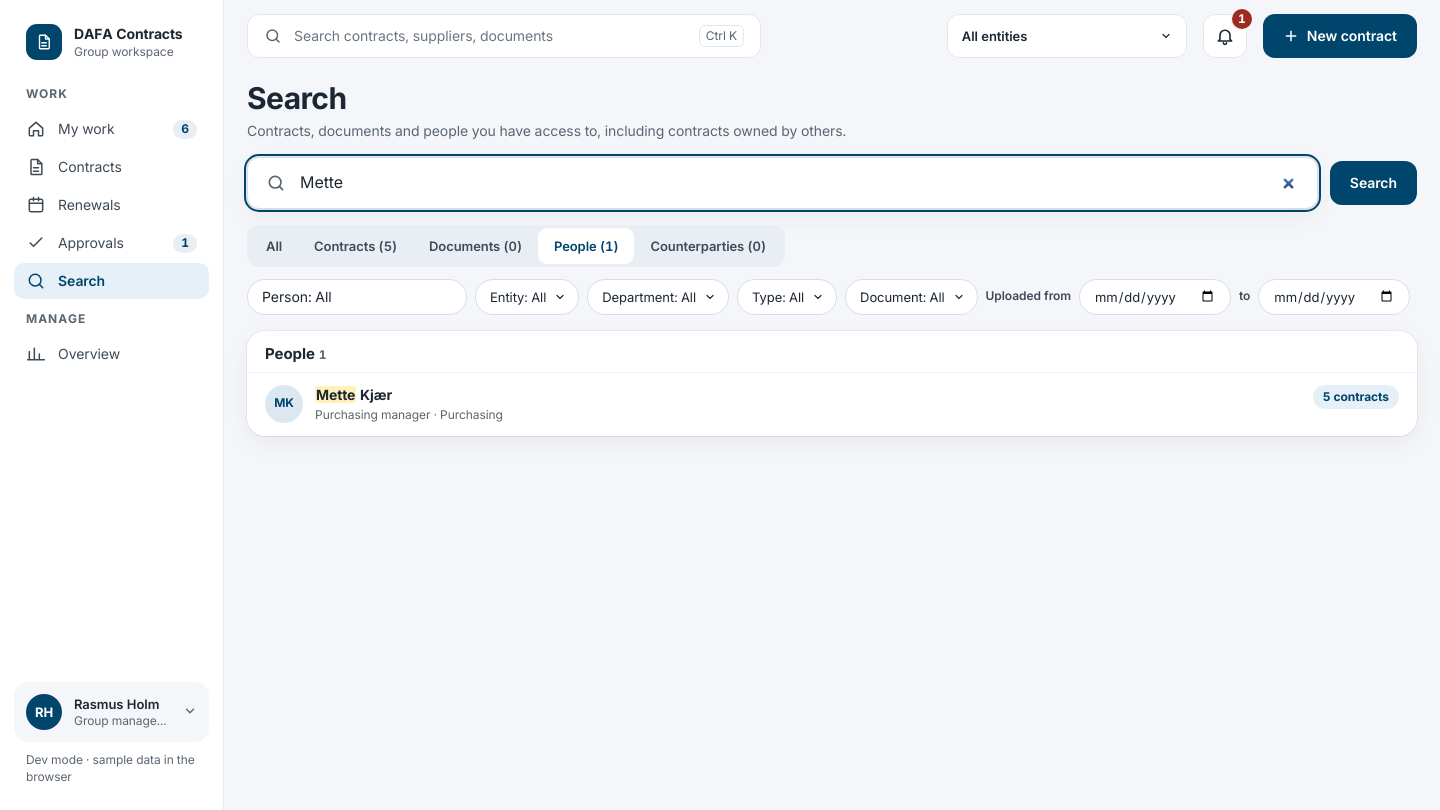
Test: Search page (release 3) › opens a person page with every role, reachable from search
Click the link "Mette Kjær" at (354,394), box x1=315 y1=386 x2=392 y2=403
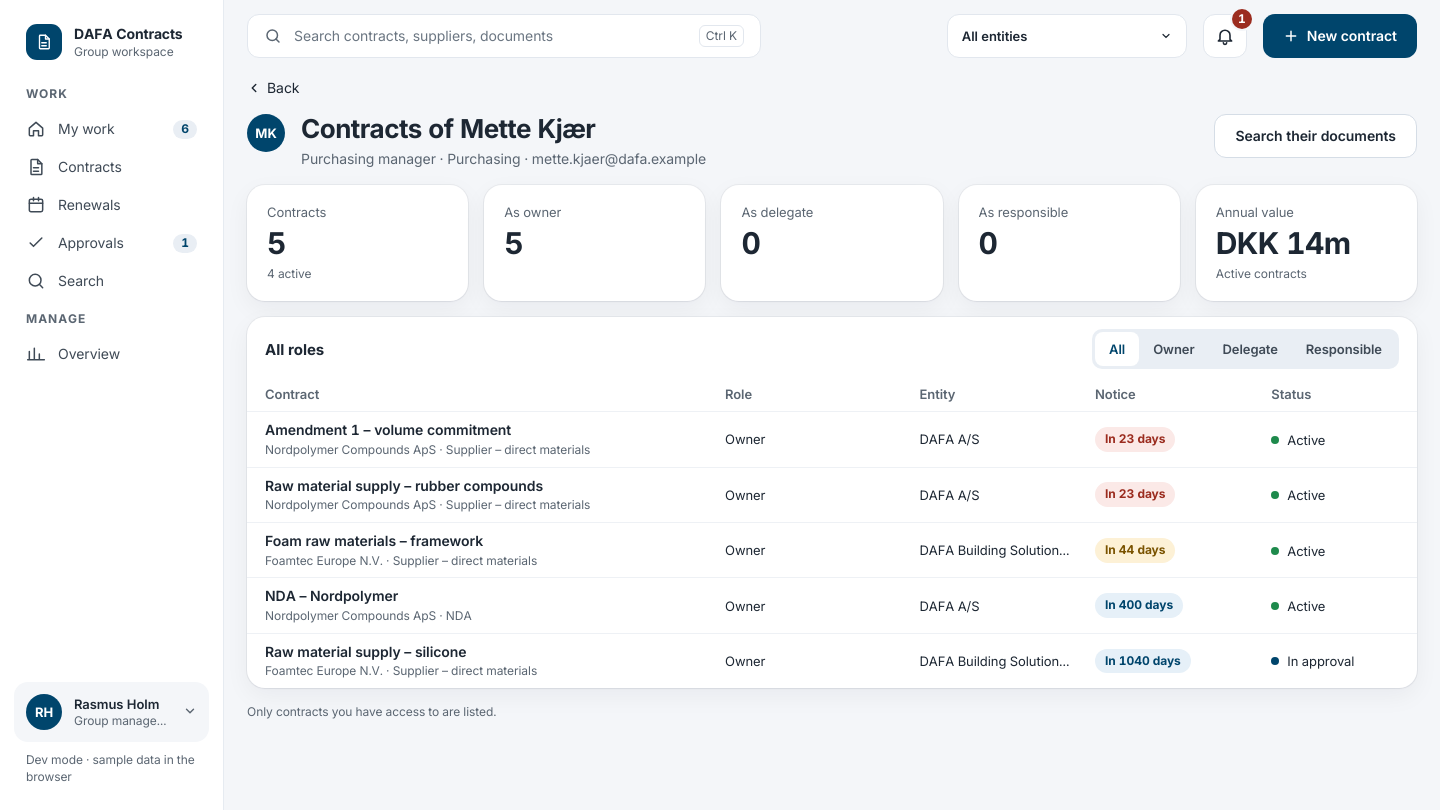
Check: the heading "Contracts of Mette Kjær" is shown, box x1=301 y1=114 x2=595 y2=144
Check: the table named "Contracts of Mette Kjær" is shown, box x1=247 y1=377 x2=1417 y2=688
